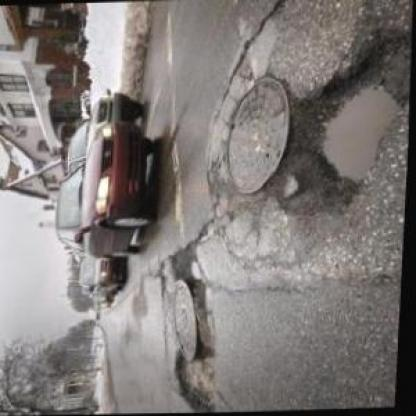pothole: (270, 24, 414, 216), (171, 347, 228, 413), (164, 236, 212, 284)
